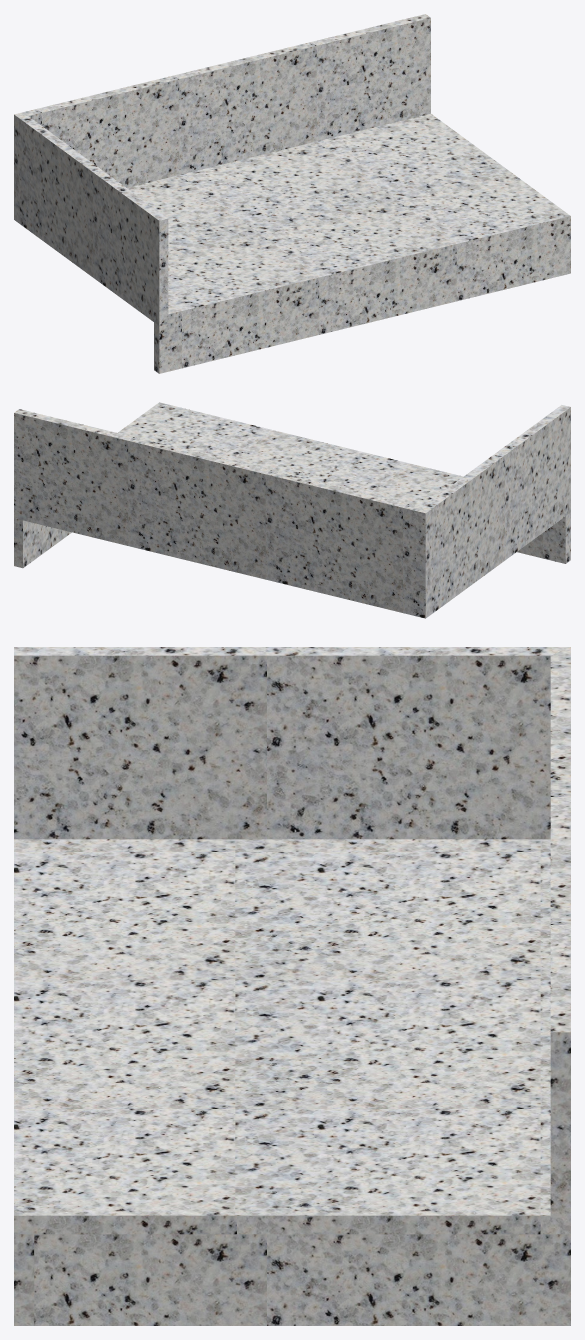
Rendered from BancadaDireitaBanheiro.fbx.
The picture shows the model from 3 angles, top to bottom: view 1: azimuth 30°, elevation 25°; view 2: azimuth 150°, elevation 25°; view 3: azimuth 270°, elevation 25°; orthographic projection. The views are drawn at different scales.
Parts seen in each view (by area): view 1: group_ 5.026, group_ 3.046, group_ 6.014, group_ 4.027; view 2: group_ 3.046, group_ 4.027, group_ 5.026, group_.147, group_ 6.014; view 3: group_ 5.026, group_ 4.027, group_.147, group_ 3.046, group_ 6.014.
Boxes of the visible parts, bbox=[...] form: group_ 5.026: bbox=[127, 113, 570, 325]; group_ 3.046: bbox=[14, 14, 430, 187]; group_ 6.014: bbox=[154, 225, 570, 373]; group_ 4.027: bbox=[14, 114, 168, 325]; group_ 3.046: bbox=[14, 409, 425, 618]; group_ 4.027: bbox=[422, 405, 570, 618]; group_ 5.026: bbox=[118, 402, 463, 507]; group_.147: bbox=[14, 518, 71, 568]; group_ 6.014: bbox=[517, 512, 570, 563]; group_ 5.026: bbox=[14, 839, 570, 1234]; group_ 4.027: bbox=[14, 647, 570, 839]; group_.147: bbox=[34, 1234, 570, 1325]; group_ 3.046: bbox=[550, 647, 570, 1233]; group_ 6.014: bbox=[14, 1234, 34, 1325].
Bounding box in the file's own units: 0.9 × 0.32 × 0.55.
1 material, 1 textured.
